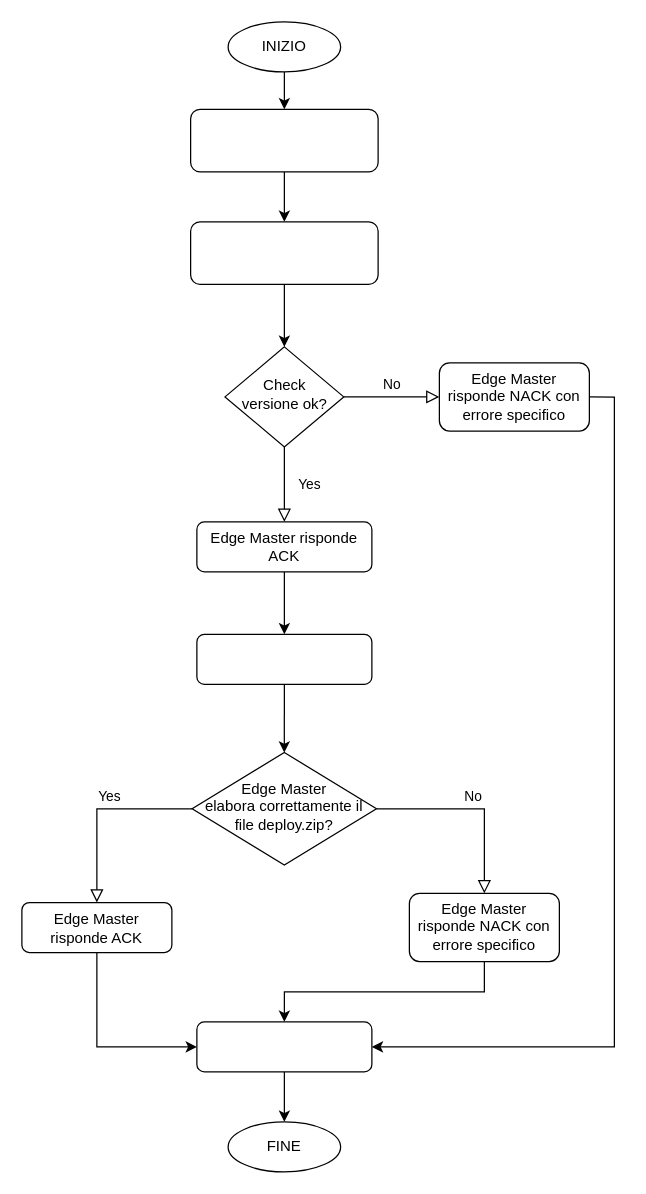
This 646x1194 diagram has some shape labels left out. Each missing label, with the box of its shape:
App Configurator chiude la connesione: (196, 1021, 372, 1072)
App Configurator invia file deploy.zip: (196, 633, 372, 684)
App configurator si connette all'Edge Master: (189, 108, 378, 172)
Invio comando check versione: (189, 221, 378, 284)
